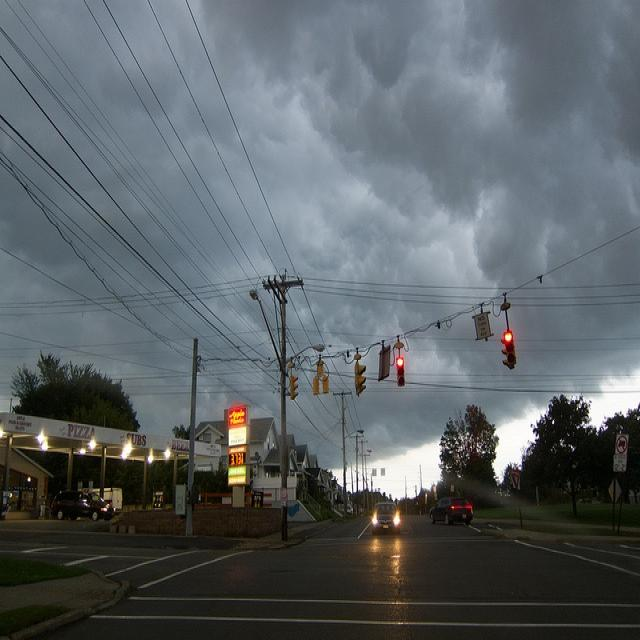car: (427, 494, 472, 522), (371, 500, 398, 532), (332, 502, 352, 514)
pole: (275, 272, 290, 537), (185, 336, 198, 532)
truck: (50, 486, 114, 518)
